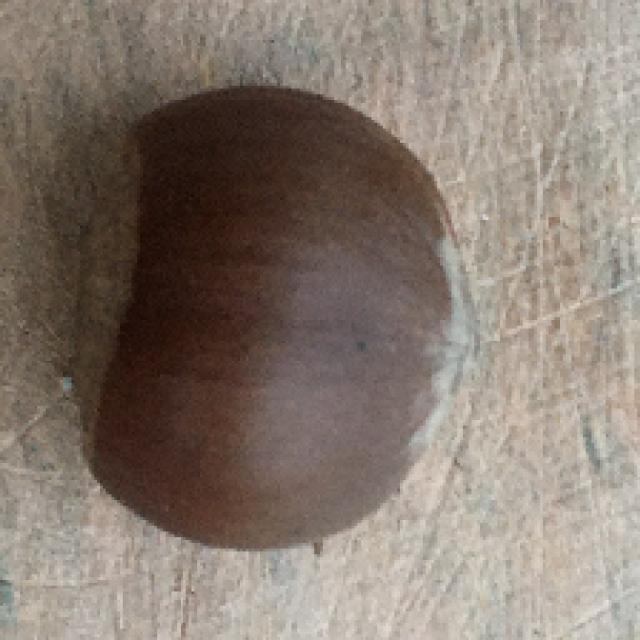DamagedHazelnut: (72, 86, 491, 554)
